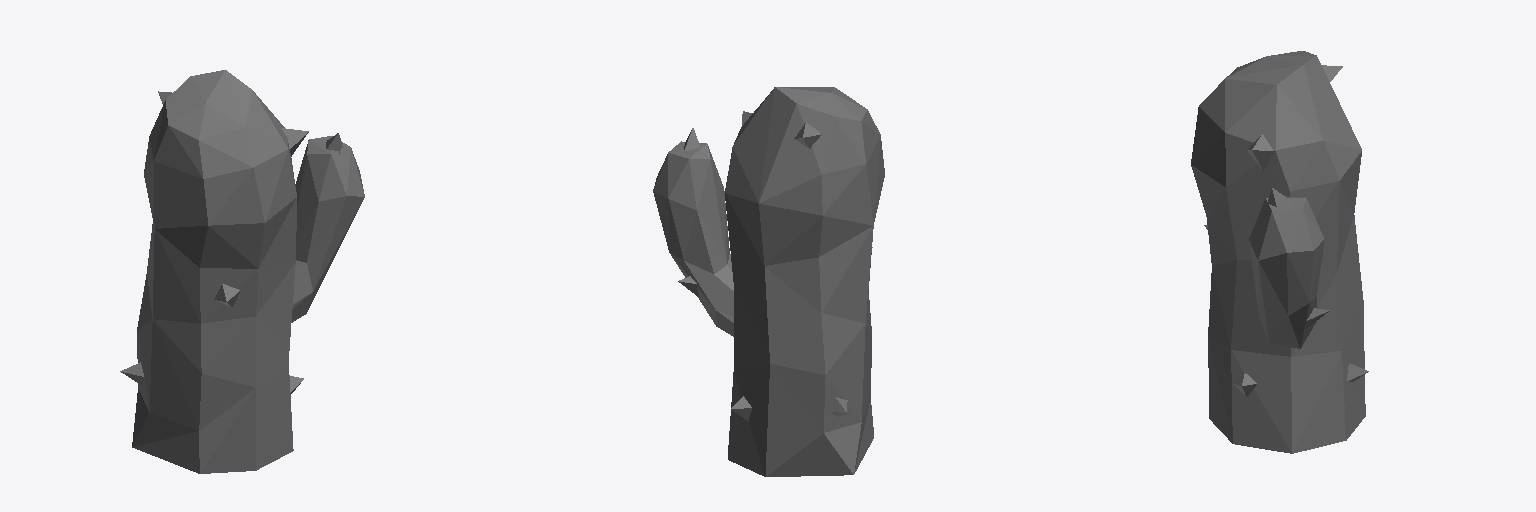
The model's file is small_cactus.obj.
3 renders of one model, left to right at view 1: azimuth 30°, elevation 25°; view 2: azimuth 150°, elevation 25°; view 3: azimuth 270°, elevation 25°, orthographic.
Visible parts, largest first — view 1: polySurface108; view 2: polySurface108; view 3: polySurface108.
Part boxes in pixels (bbox=[...]): polySurface108: bbox=[120, 70, 364, 473]; polySurface108: bbox=[653, 87, 884, 476]; polySurface108: bbox=[1191, 51, 1368, 453].
Bounding box in the file's own units: 2.02 × 3.27 × 1.45.